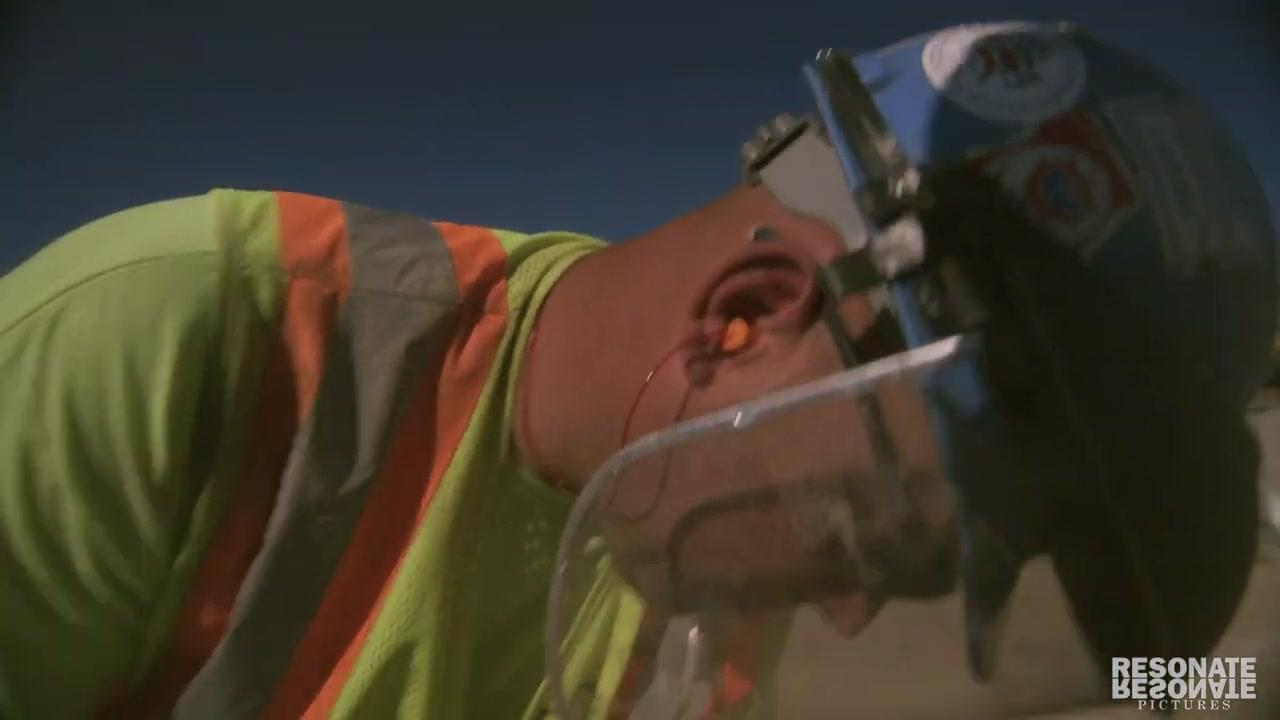vest: (5, 185, 784, 718)
